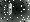person: (6, 6, 12, 18)
